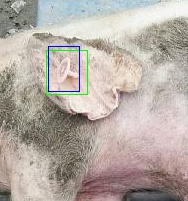text: (46, 50, 87, 94)
